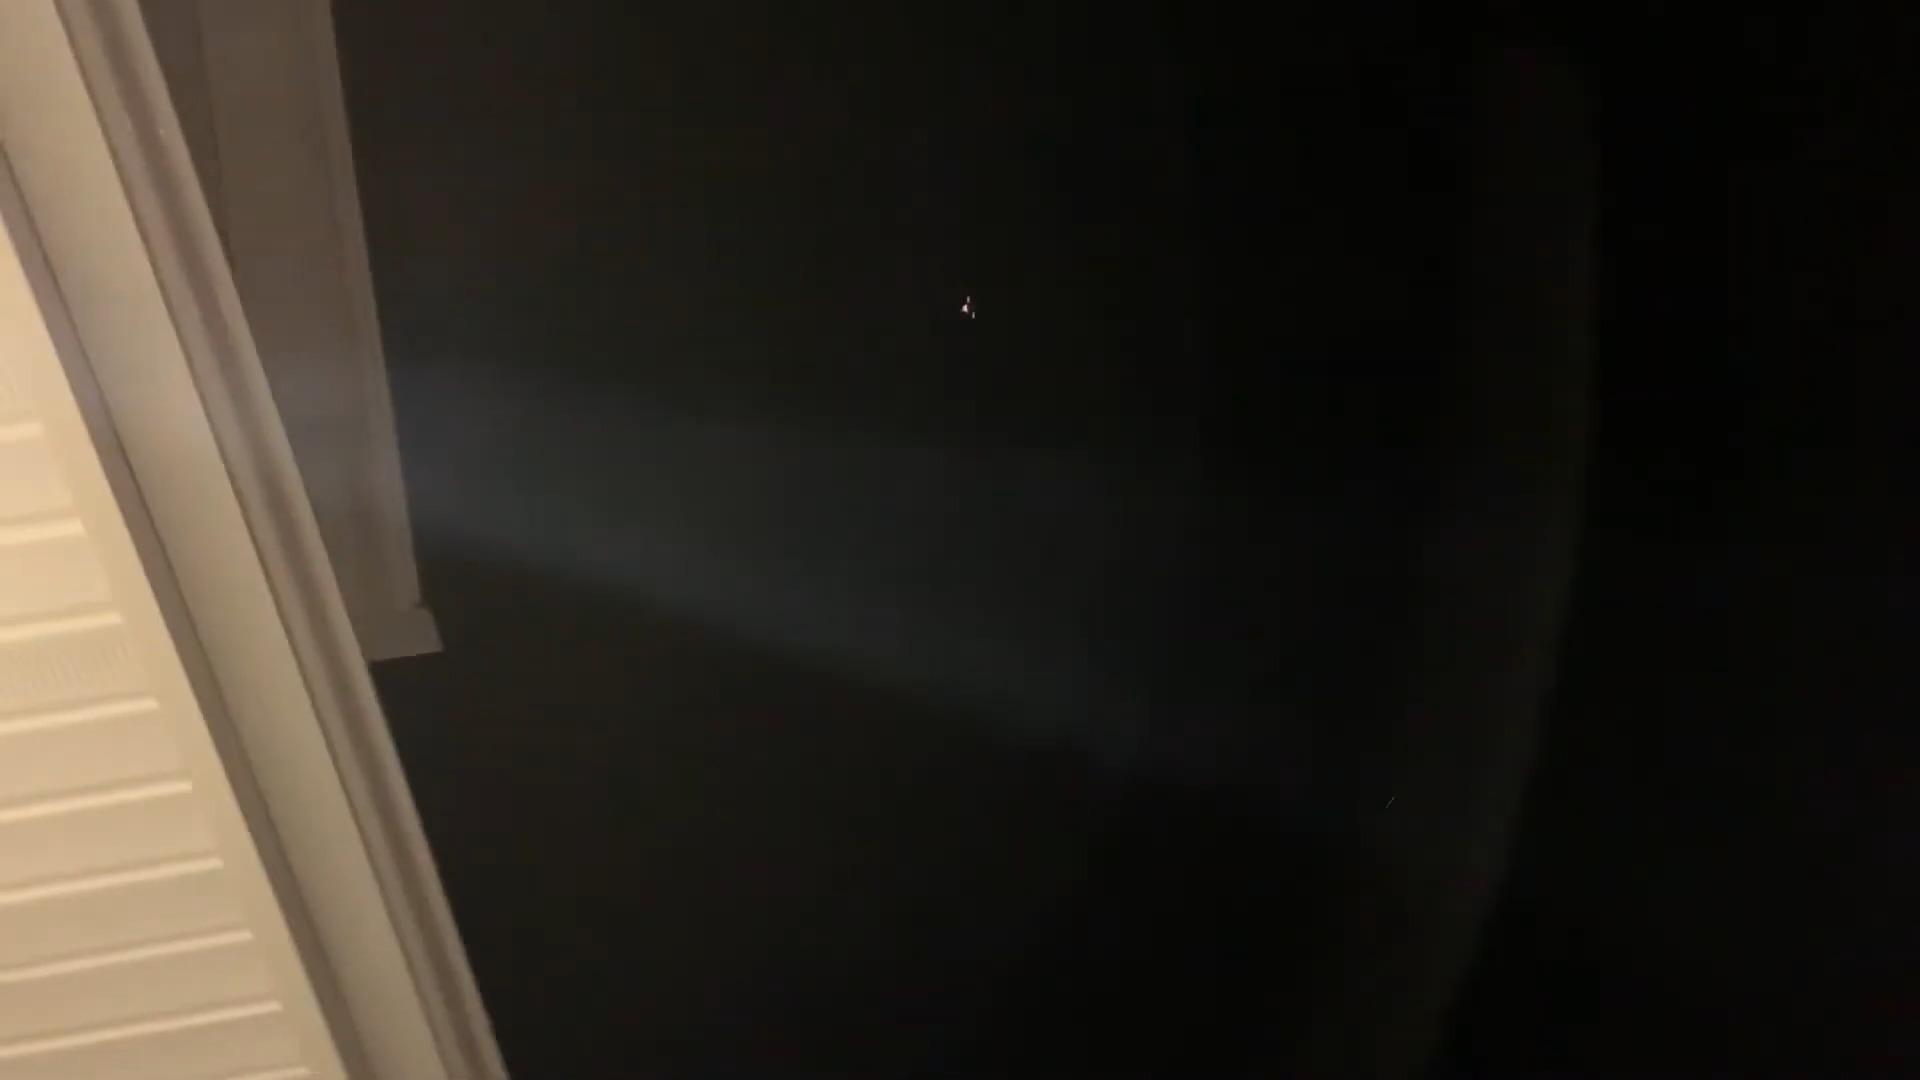Plane: (945, 278, 993, 334)
